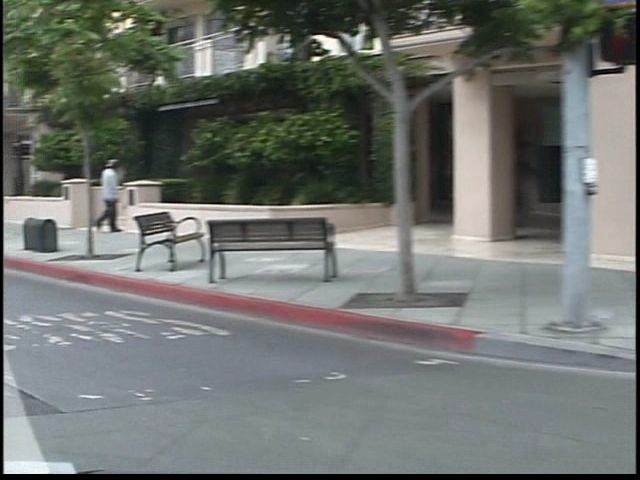person: (78, 154, 118, 244)
